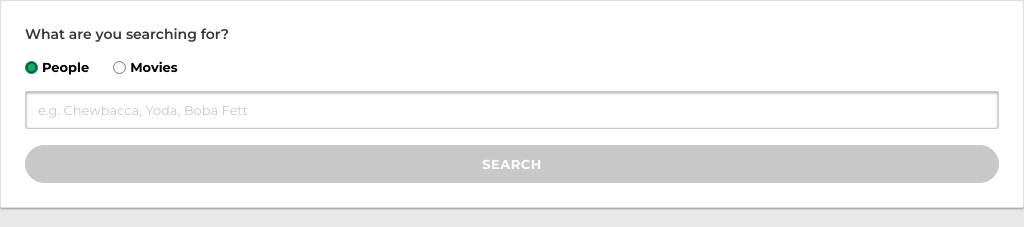
SearchBox › placeholder changes when Movies radio is selected
Click the radio button labelled "Movies".
click(120, 67)  # box [113,60,126,74]
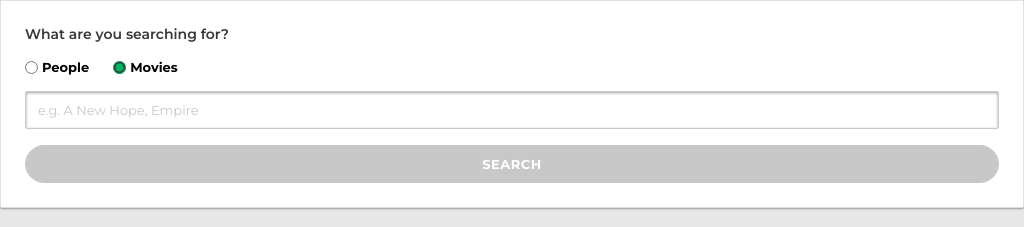
Now the field with placeholder "e.g. A New Hope, Empire" is shown, box [25,91,999,129]
